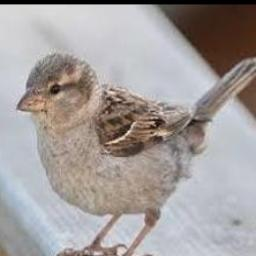Sparrow: (16, 52, 256, 256)
